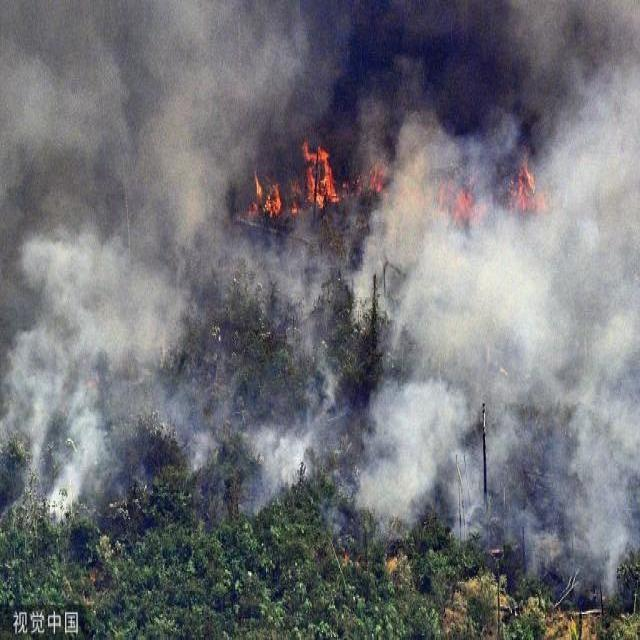Fire: (247, 139, 384, 219), (516, 165, 538, 213), (453, 185, 474, 218)
Smoke: (1, 1, 640, 602)
